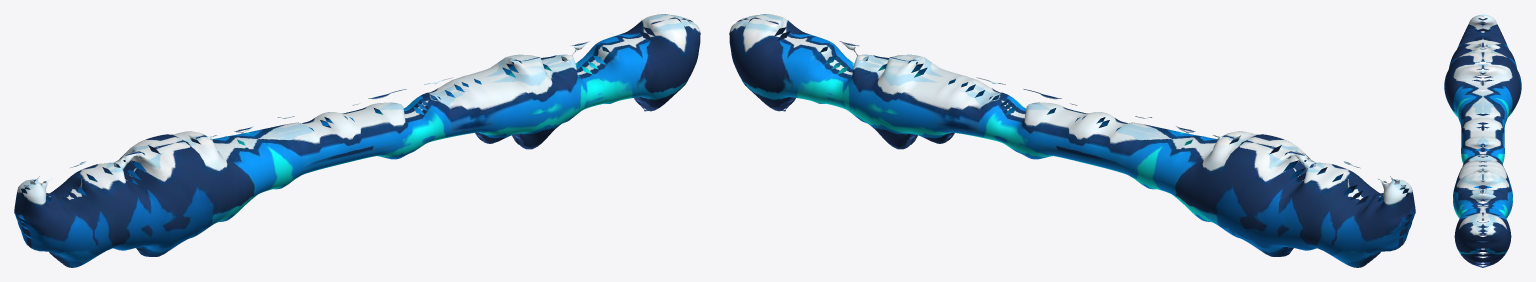
The model's file is ice_shelf_face.glb.
3 renders of one model, left to right at view 1: azimuth 30°, elevation 25°; view 2: azimuth 150°, elevation 25°; view 3: azimuth 270°, elevation 25°, orthographic. The views are drawn at different scales.
Parts seen in each view (by area): view 1: ice_shelf_face; view 2: ice_shelf_face; view 3: ice_shelf_face.
Boxes of the visible parts, left/top/right/bottom form: ice_shelf_face: left=14, top=14, right=700, bottom=267; ice_shelf_face: left=729, top=14, right=1415, bottom=267; ice_shelf_face: left=1444, top=14, right=1521, bottom=267.
Bounding box in the file's own units: 0.9876 × 0.1499 × 0.1458.
1 material, 1 textured.
